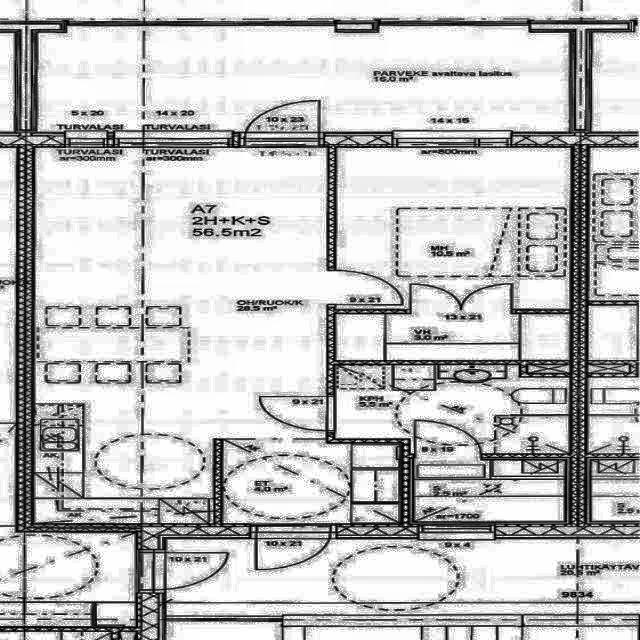room: (38, 33, 568, 131), (336, 148, 569, 308), (337, 365, 568, 453), (223, 440, 400, 523), (336, 314, 568, 360), (415, 458, 564, 521)
